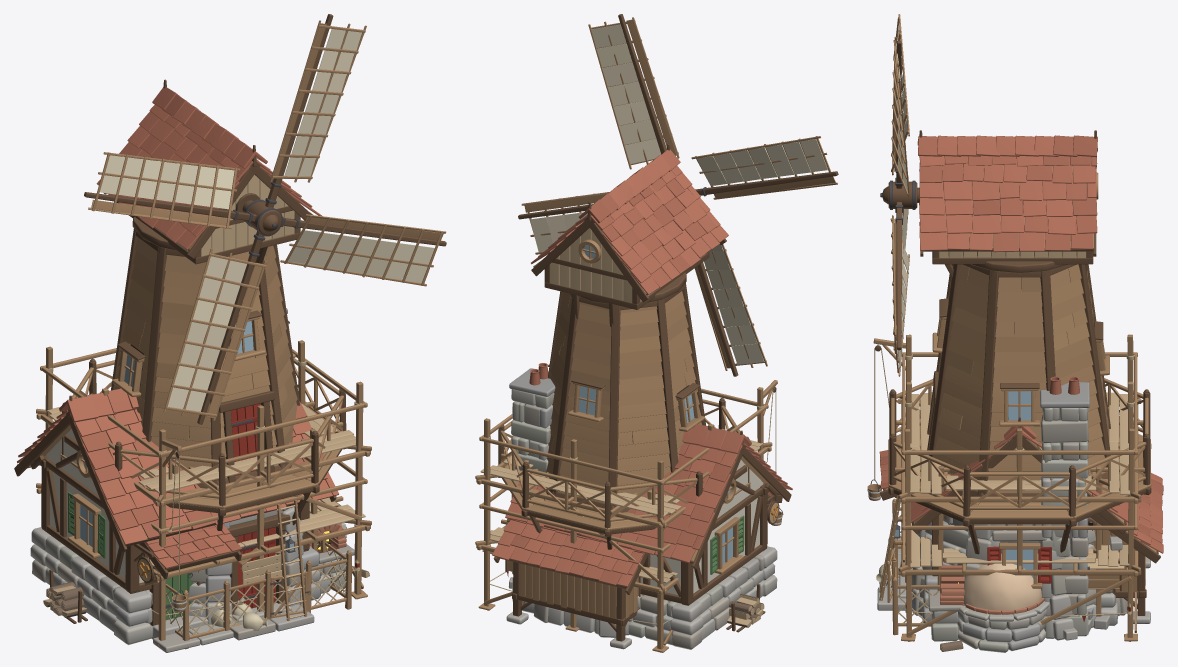
File: buildings.glb
3 renders of one model, left to right at view 1: azimuth 30°, elevation 25°; view 2: azimuth 150°, elevation 25°; view 3: azimuth 270°, elevation 25°, orthographic. The views are drawn at different scales.
Visible parts, largest first — view 1: windmill, bakehouse, windmill_sails, scaffold, henhouse, build_site; view 2: windmill, bakehouse, windmill_sails, scaffold, henhouse; view 3: windmill, scaffold, bakehouse, henhouse, windmill_sails, build_site.
Boxes of the visible parts, box(x1,y1,x2,y2) form: windmill: box(60, 79, 346, 640); bakehouse: box(14, 308, 369, 652); windmill_sails: box(84, 14, 446, 424); scaffold: box(36, 340, 371, 646); henhouse: box(165, 532, 351, 649); build_site: box(152, 547, 359, 615); windmill: box(498, 144, 750, 637); bakehouse: box(505, 363, 792, 649); windmill_sails: box(518, 14, 838, 376); scaffold: box(475, 380, 783, 652); henhouse: box(492, 519, 648, 649); windmill: box(877, 130, 1151, 640); scaffold: box(867, 334, 1144, 641); bakehouse: box(876, 376, 1128, 652); henhouse: box(886, 473, 1163, 635); windmill_sails: box(880, 14, 917, 376); build_site: box(905, 521, 1131, 641).
Bounding box in the file's own units: 8.9 × 14.07 × 6.44.
